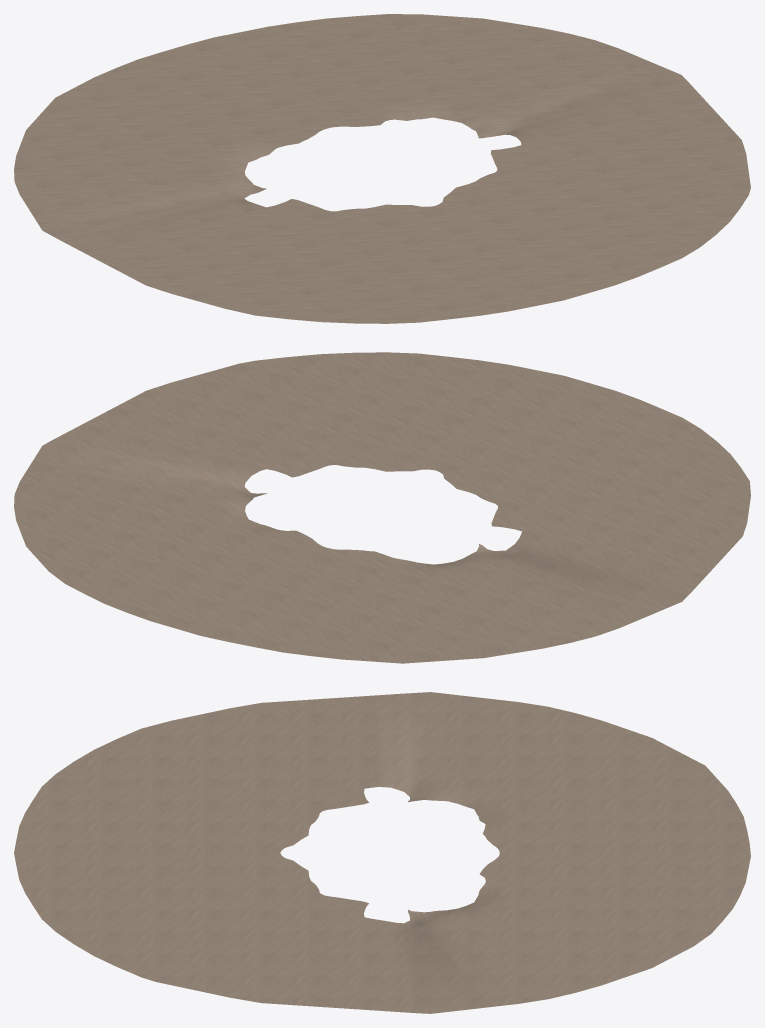
File: pref_sm_beach_tech_hunt_winter_003_sea01_lv1.fbx
3 views of the same model, one above another, from view 1: azimuth 30°, elevation 25°; view 2: azimuth 150°, elevation 25°; view 3: azimuth 270°, elevation 25° (orthographic). The views are drawn at different scales.
Visible parts, largest first — view 1: pref_sm_beach_tech_hunt_winter_003_sea01_lv1; view 2: pref_sm_beach_tech_hunt_winter_003_sea01_lv1; view 3: pref_sm_beach_tech_hunt_winter_003_sea01_lv1.
Boxes of the visible parts, x1=… form: pref_sm_beach_tech_hunt_winter_003_sea01_lv1: x1=14, y1=14, x2=750, y2=323; pref_sm_beach_tech_hunt_winter_003_sea01_lv1: x1=14, y1=352, x2=750, y2=663; pref_sm_beach_tech_hunt_winter_003_sea01_lv1: x1=14, y1=692, x2=750, y2=1013.
Bounding box in the file's own units: 397 × 3.68 × 384.
